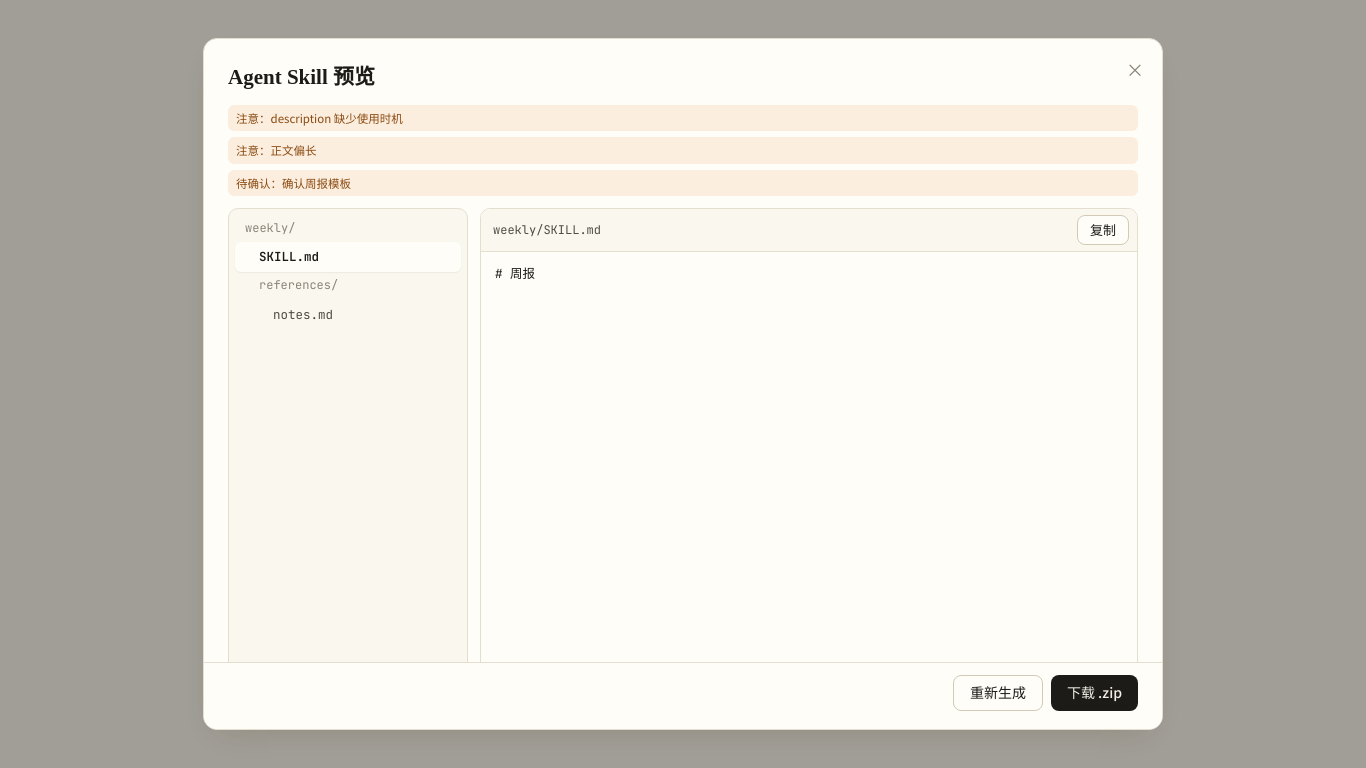
it: 导出 Agent Skill 弹窗 › 重新生成进行中显示进度；浏览器内的基础版本没有「重新生成」
The width and height of the screenshot is (1366, 768).
Click the button "重新生成": x=998, y=693 [953,675,1043,711]
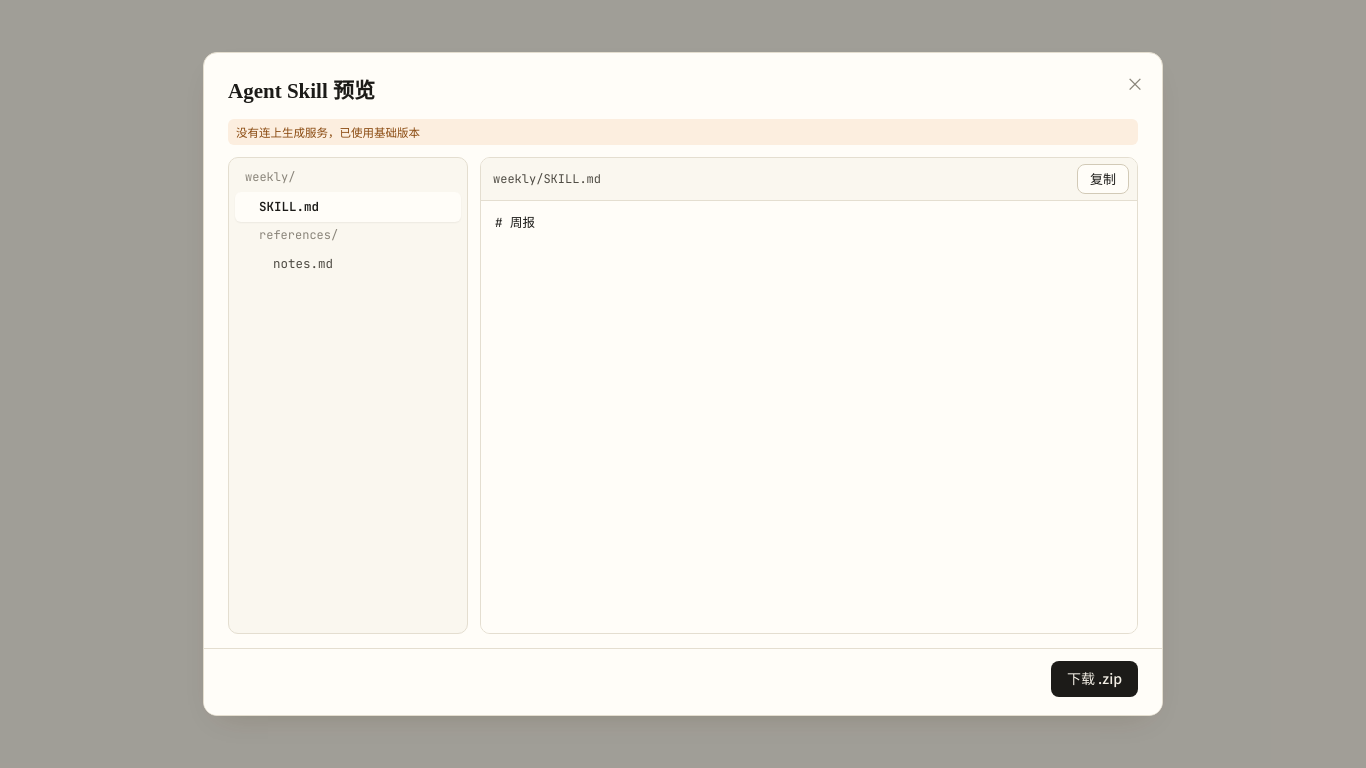
Check: the text with class "ep-code" reads "# 周报", box [495,214,535,231]
Check: the text "重新生成" is gone
